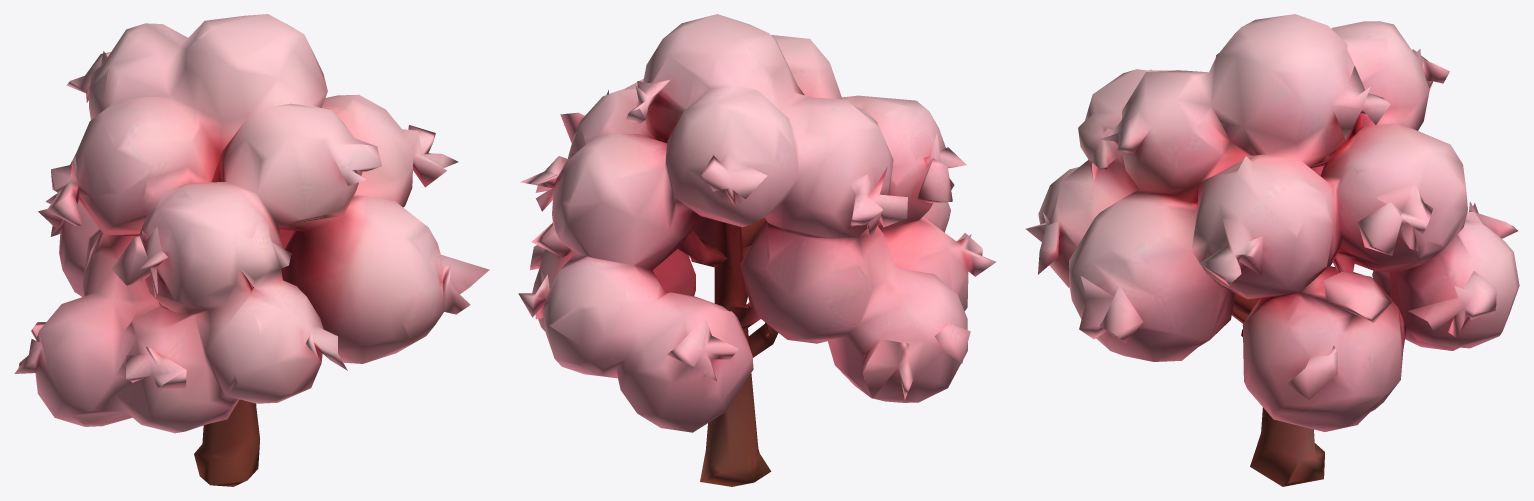
The model's file is ipe2.glb.
The picture shows the model from 3 angles, left to right: view 1: azimuth 30°, elevation 25°; view 2: azimuth 150°, elevation 25°; view 3: azimuth 270°, elevation 25°; orthographic projection. The views are drawn at different scales.
Visible parts, largest first — view 1: tripo_node_5f117302-9c7f-4396-8645-d712cc569991; view 2: tripo_node_5f117302-9c7f-4396-8645-d712cc569991; view 3: tripo_node_5f117302-9c7f-4396-8645-d712cc569991.
Part boxes in pixels (box(x1,y1,x2,y2)): tripo_node_5f117302-9c7f-4396-8645-d712cc569991: box(14, 14, 489, 486); tripo_node_5f117302-9c7f-4396-8645-d712cc569991: box(518, 14, 995, 486); tripo_node_5f117302-9c7f-4396-8645-d712cc569991: box(1026, 14, 1519, 486).
Size of the model in its own units: 0.995 by 1 by 0.9882.
Materials: 1 (1 with a texture image).
